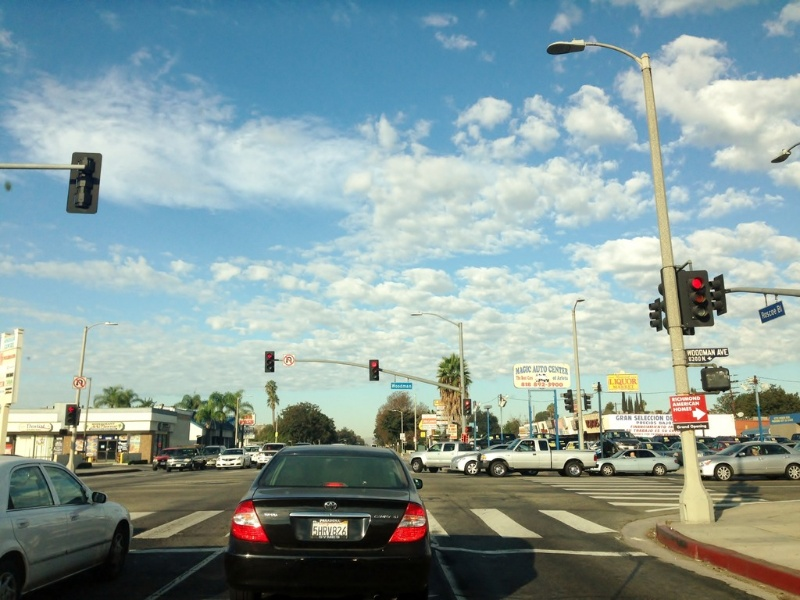red_light: (670, 261, 727, 324)
